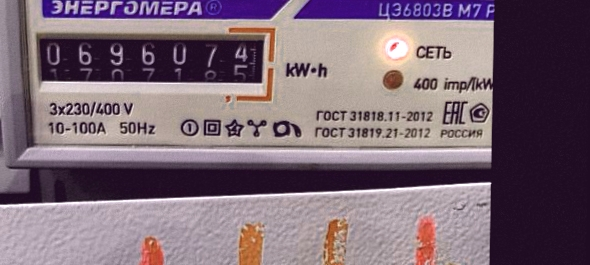0: (43, 41, 63, 66), (170, 40, 188, 66)
4: (232, 40, 249, 63)
5: (232, 63, 248, 84)
6: (138, 40, 157, 67), (75, 40, 94, 66)
7: (202, 42, 219, 68)
9: (107, 40, 124, 66)
screen: (25, 21, 279, 105)
